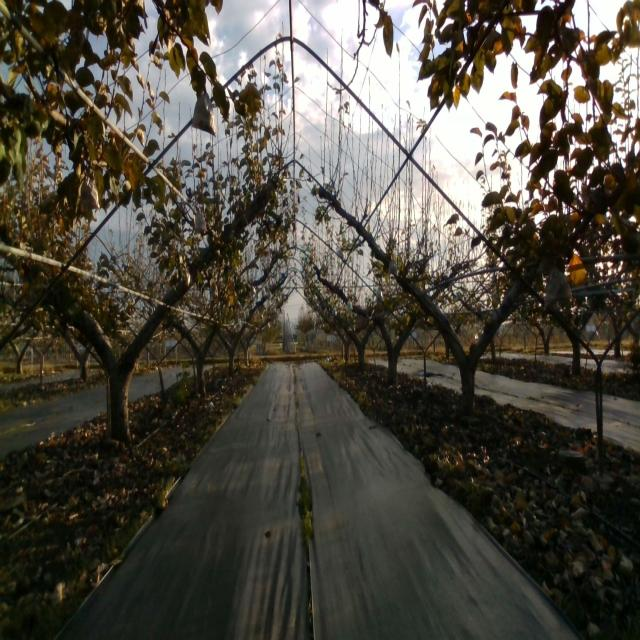pearbags: (543, 267, 573, 312), (192, 92, 216, 138), (77, 176, 100, 216), (194, 209, 208, 234), (388, 255, 399, 277)
